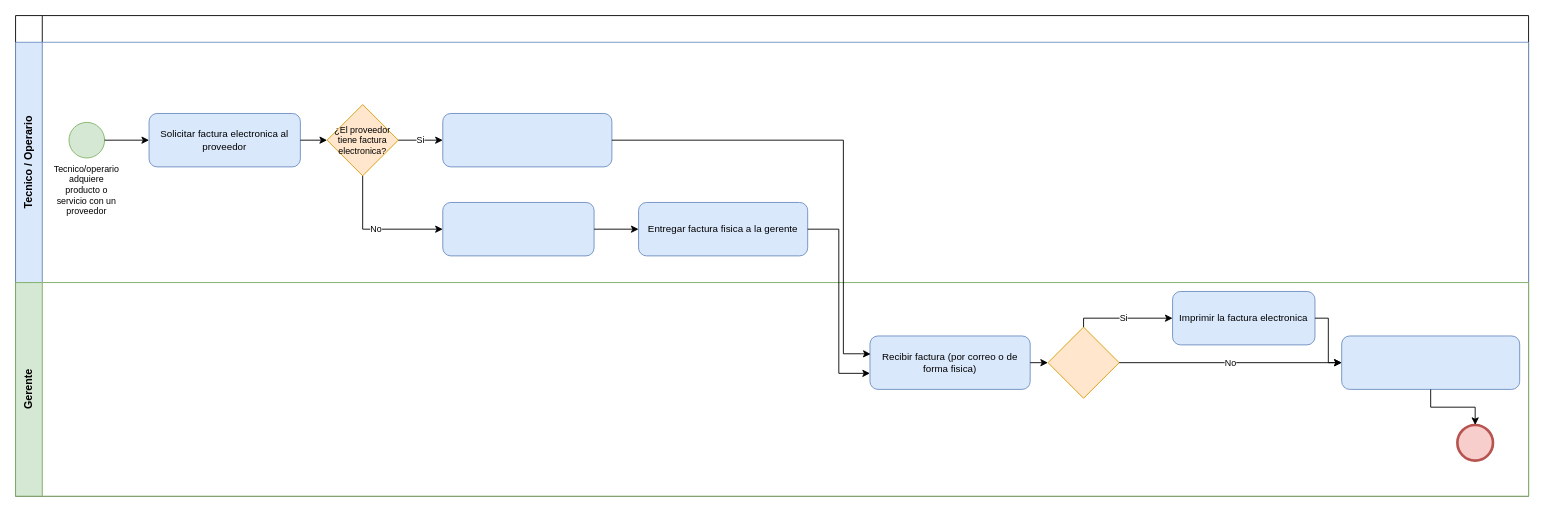
Some shapes in this 1544 by 514 pixel diagram are drawn without their labels. Here are the shapes that lost their labels. From the top down, the centre of each, then its label:
At [527,140]: "Enviar factura electronica por correo a la gerente".
At [518,229]: "Solicitar factura fisica al proveedor".
At [1083,362]: "¿La factura es electronica?".
At [1430,362]: "Registrar la factura manualmente en SIIGO (una por una)".
At [1475,442]: "Factura registrada en SIIGO".
